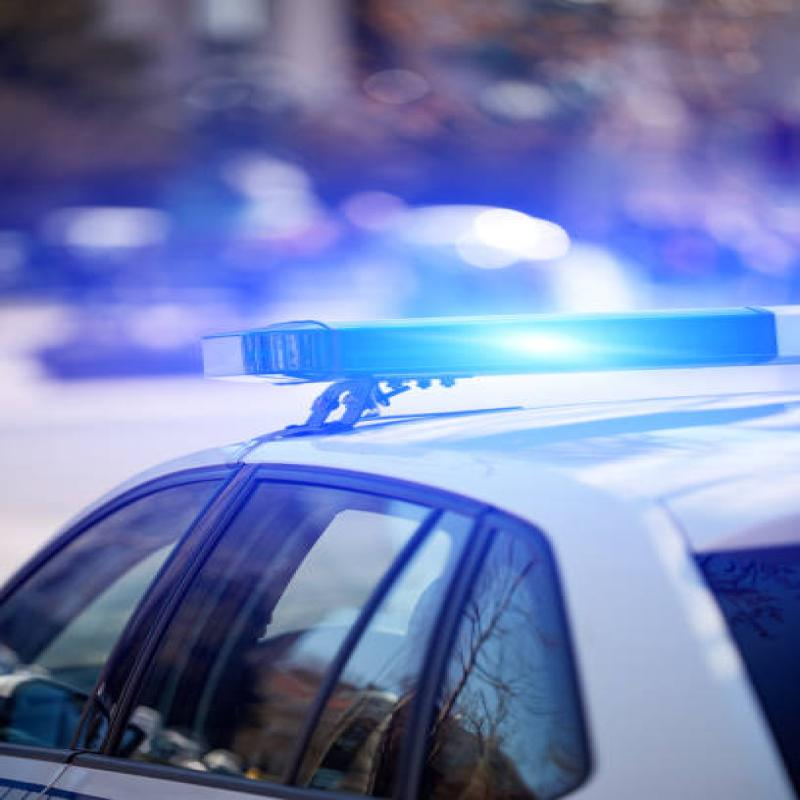AmbulanceSiren: (149, 299, 800, 402)
